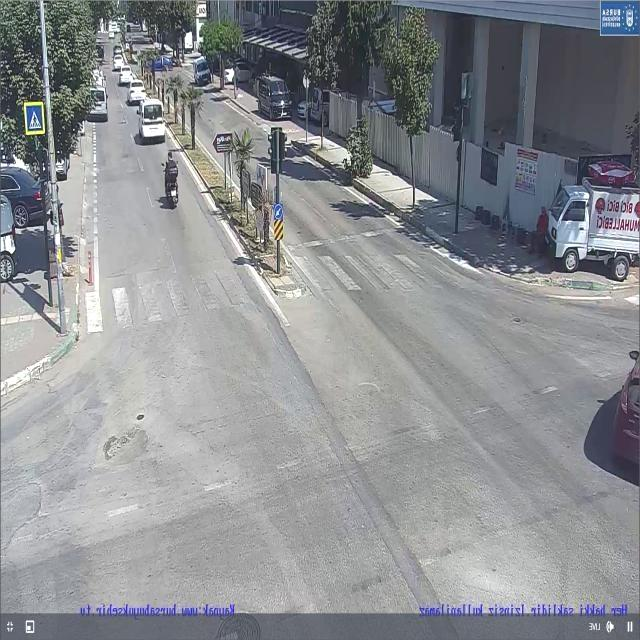Car: (612, 339, 639, 472), (0, 167, 57, 229), (255, 74, 292, 120), (0, 196, 18, 282), (138, 99, 166, 142), (88, 87, 107, 122), (227, 60, 253, 84), (128, 78, 148, 107), (192, 57, 212, 85), (55, 152, 71, 179), (297, 100, 312, 120), (118, 67, 134, 85), (224, 66, 235, 84), (113, 54, 124, 68), (113, 45, 122, 57)
Cycle: (163, 152, 180, 209)
